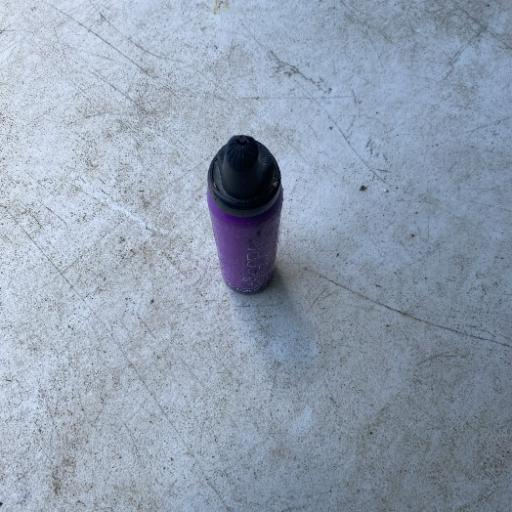Metal: (204, 132, 286, 296)
